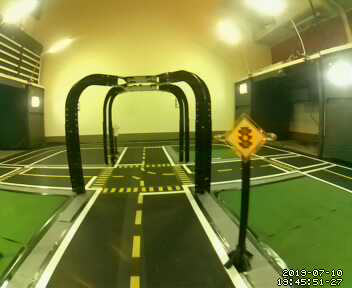Traffic light sign: (225, 116, 266, 159)
